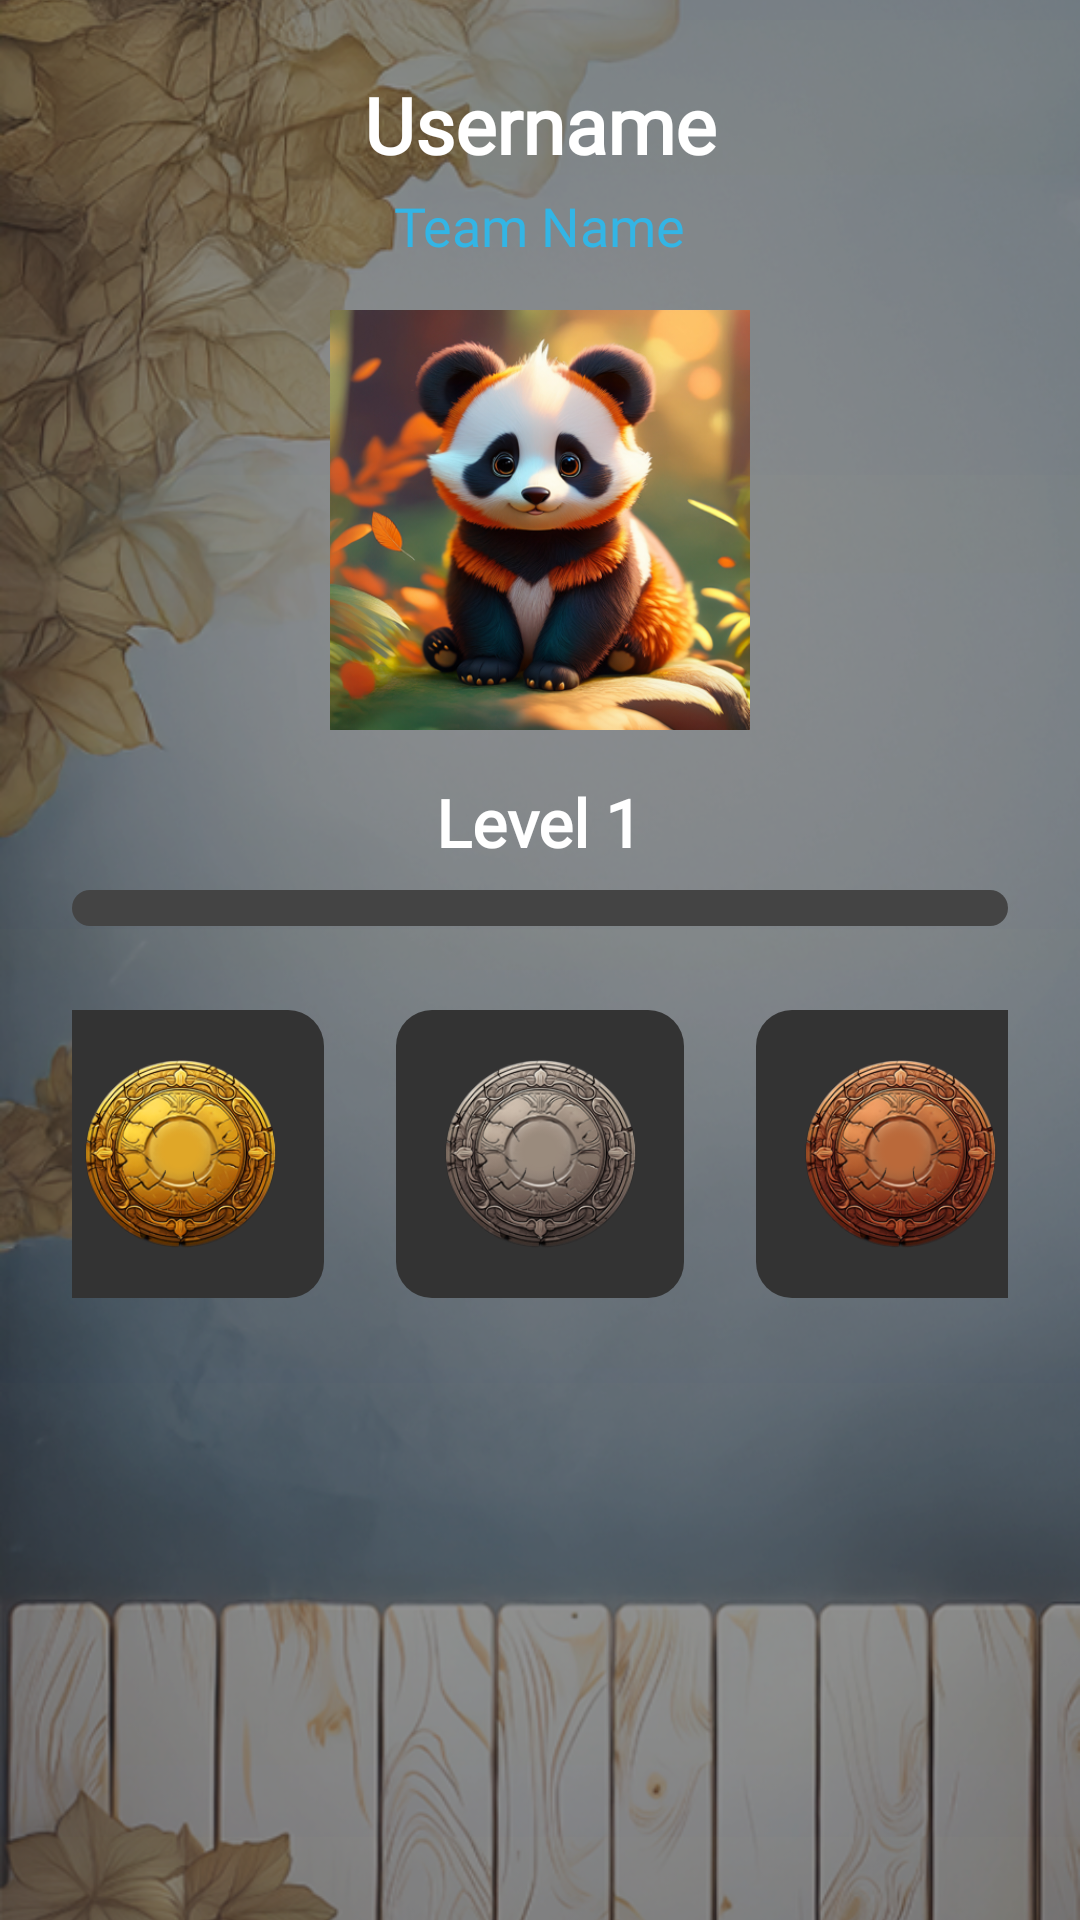

Where to tap for icons on this 1080px×1920px app screen, as (x,y):
silver medal: (540,1154)
